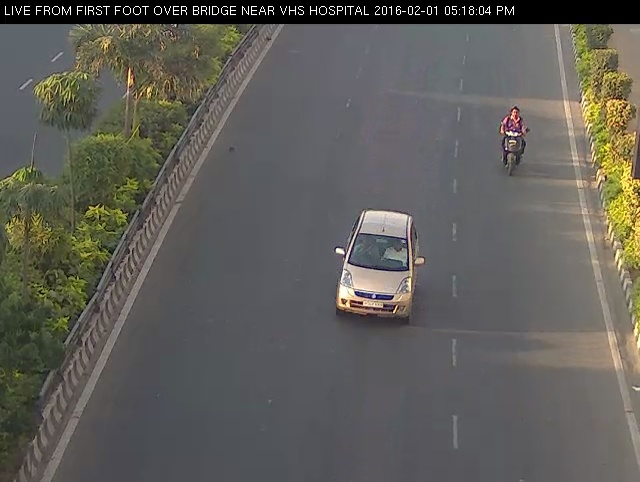Car: (318, 203, 437, 335)
Person: (492, 100, 539, 181)
